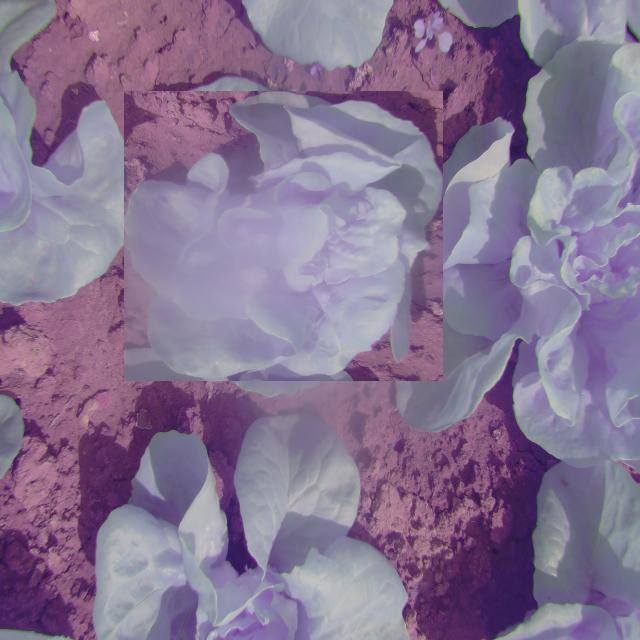vege: (131, 84, 436, 388)
